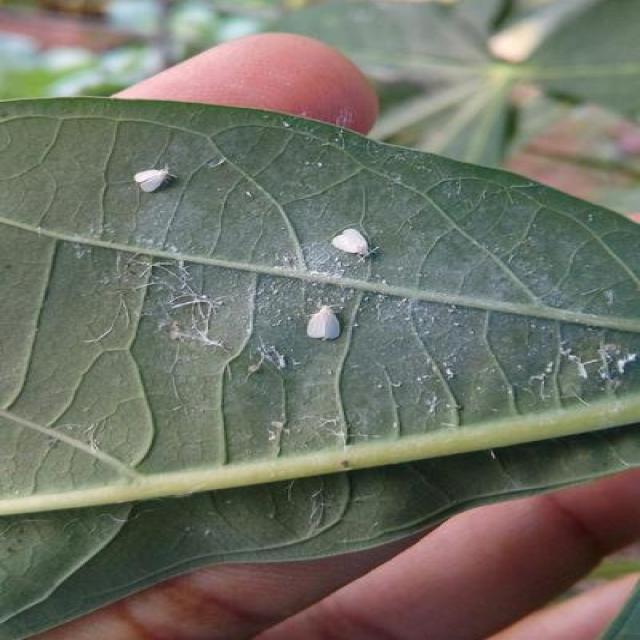Whitefly: (43, 99, 640, 457)
